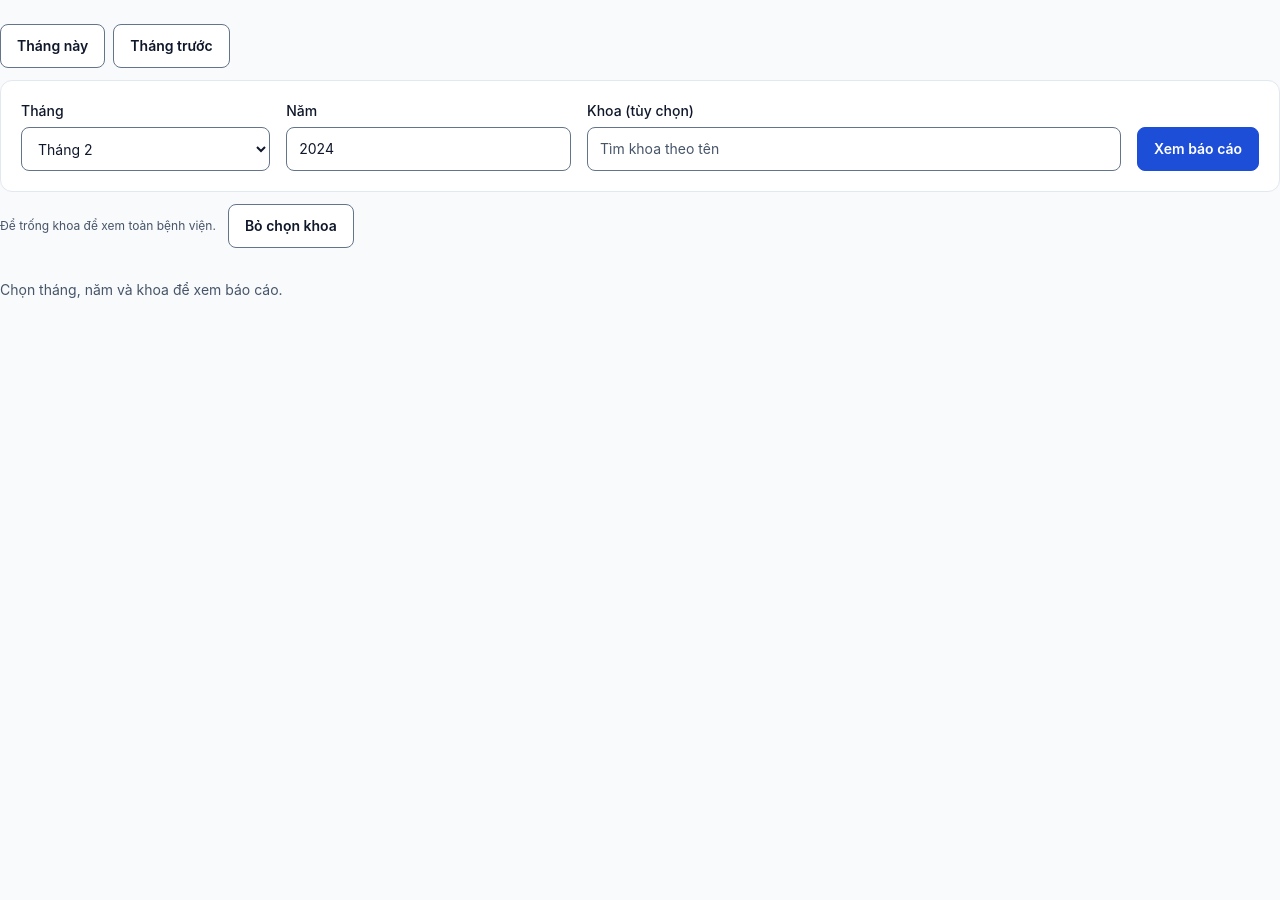
Test: MonthlyReportView › clears old results after failure and retries the submitted query, not the edited draft
Submit the form labelled "Tháng", box top-left (0, 80), bottom-right (1279, 192)
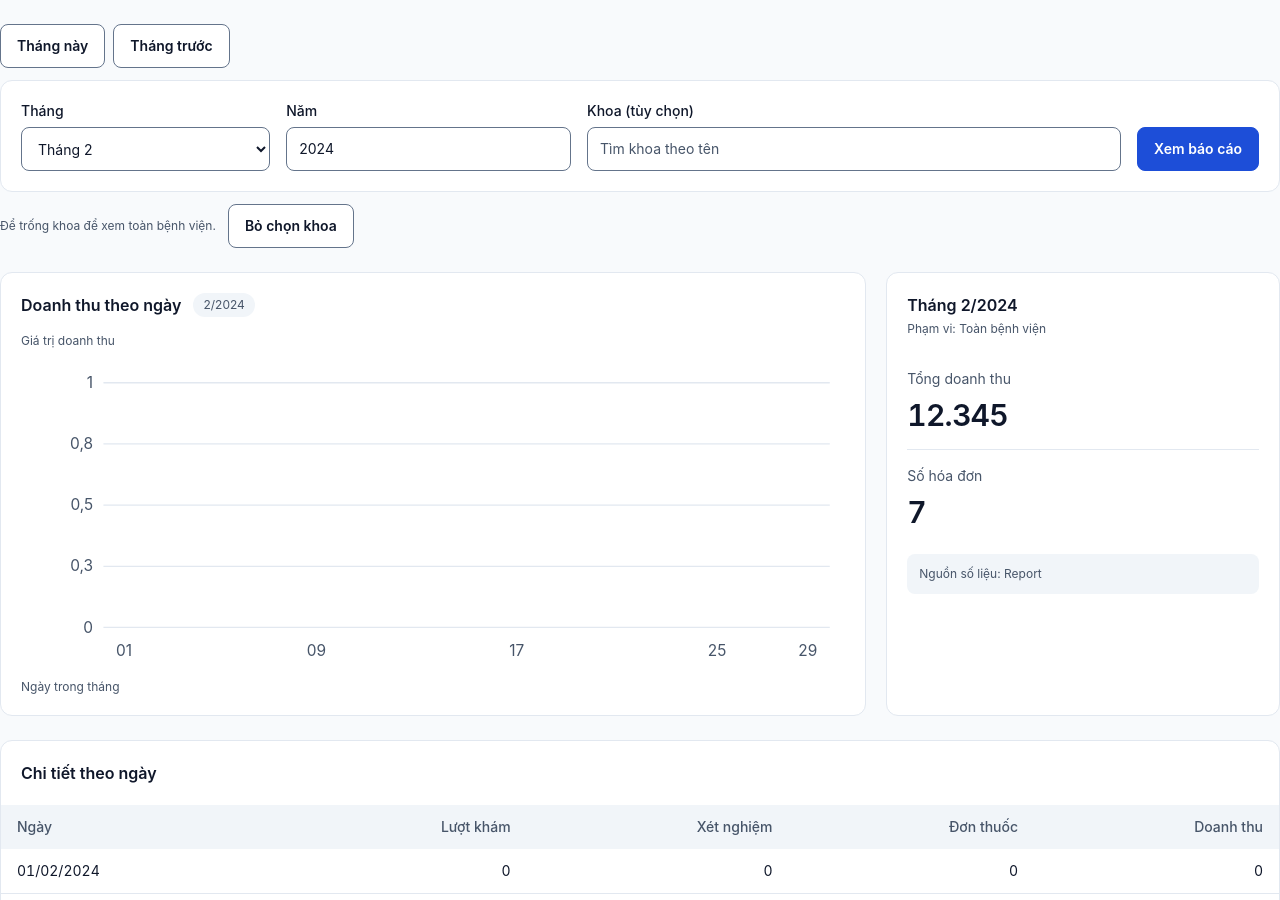
Check: the text "12.345" is shown, box top-left (907, 397), bottom-right (1008, 433)
Select "Tháng 3" in the dropdown labelled "Tháng" at (146, 149), box top-left (21, 127), bottom-right (270, 171)
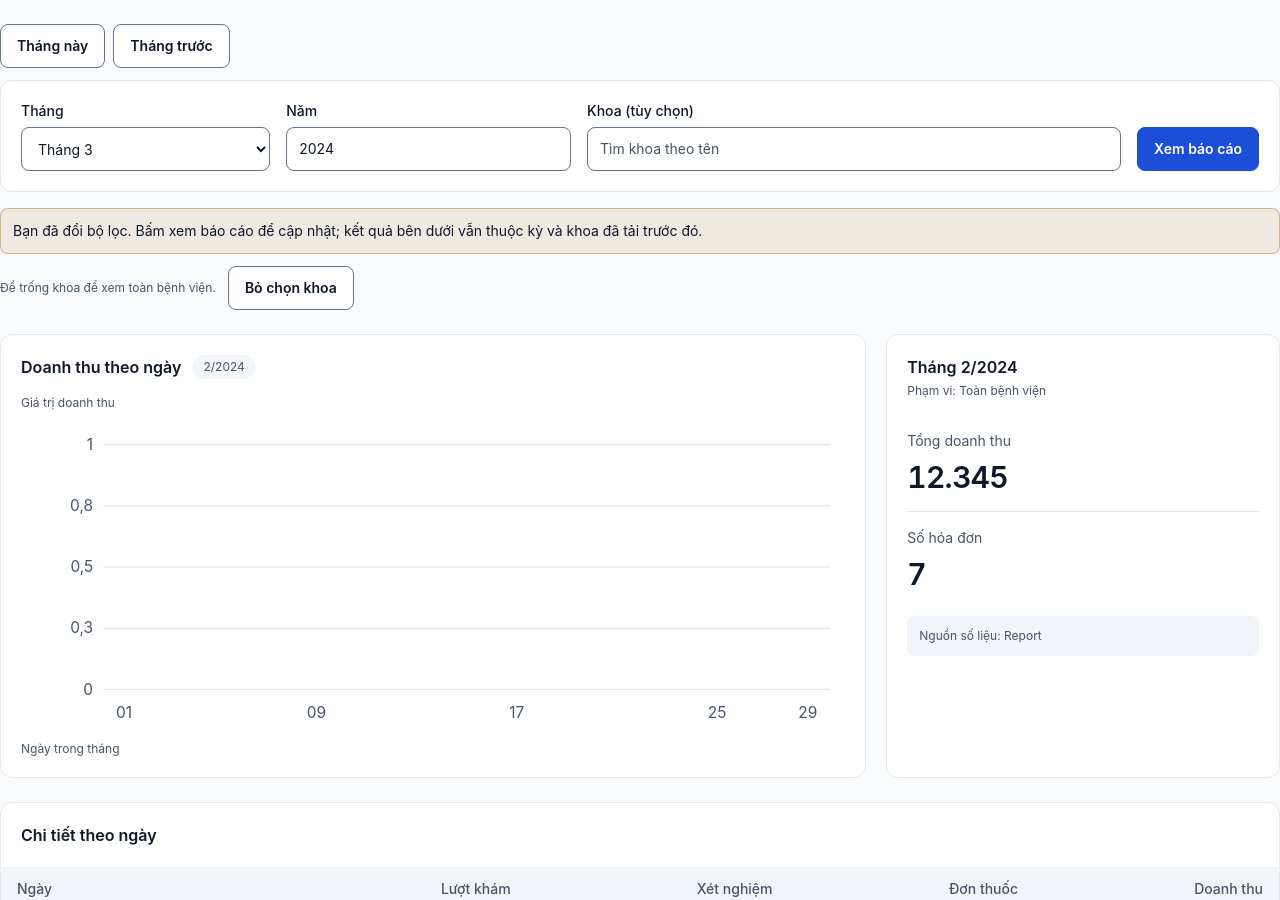
Submit the form labelled "Tháng", box top-left (0, 80), bottom-right (1279, 192)
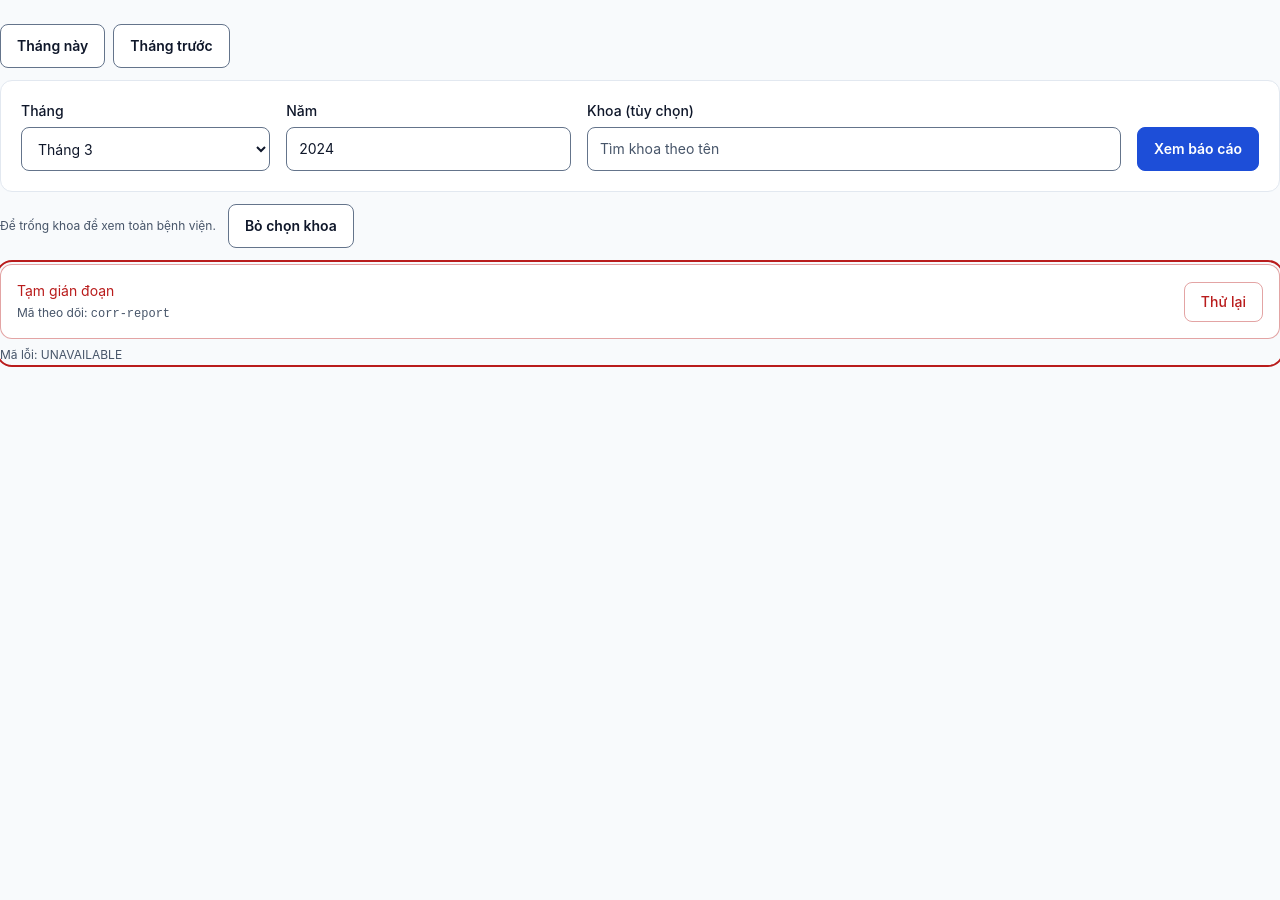
Check: the message shows "corr-report", box top-left (91, 307), bottom-right (170, 321)
Select "Tháng 4" in the dropdown labelled "Tháng" at (146, 149), box top-left (21, 127), bottom-right (270, 171)
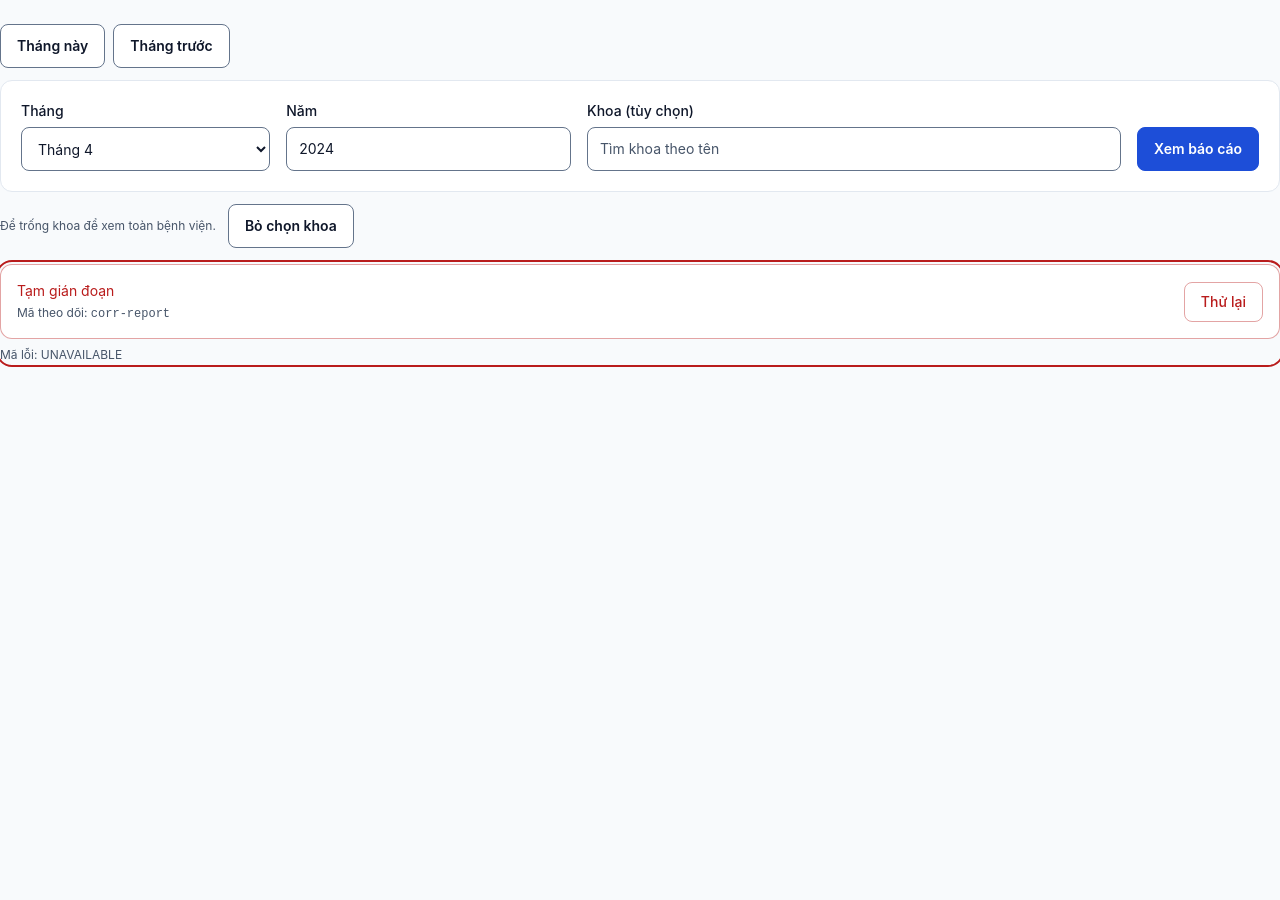
Click the button "Thử lại" at (1223, 302), box top-left (1184, 282), bottom-right (1263, 322)
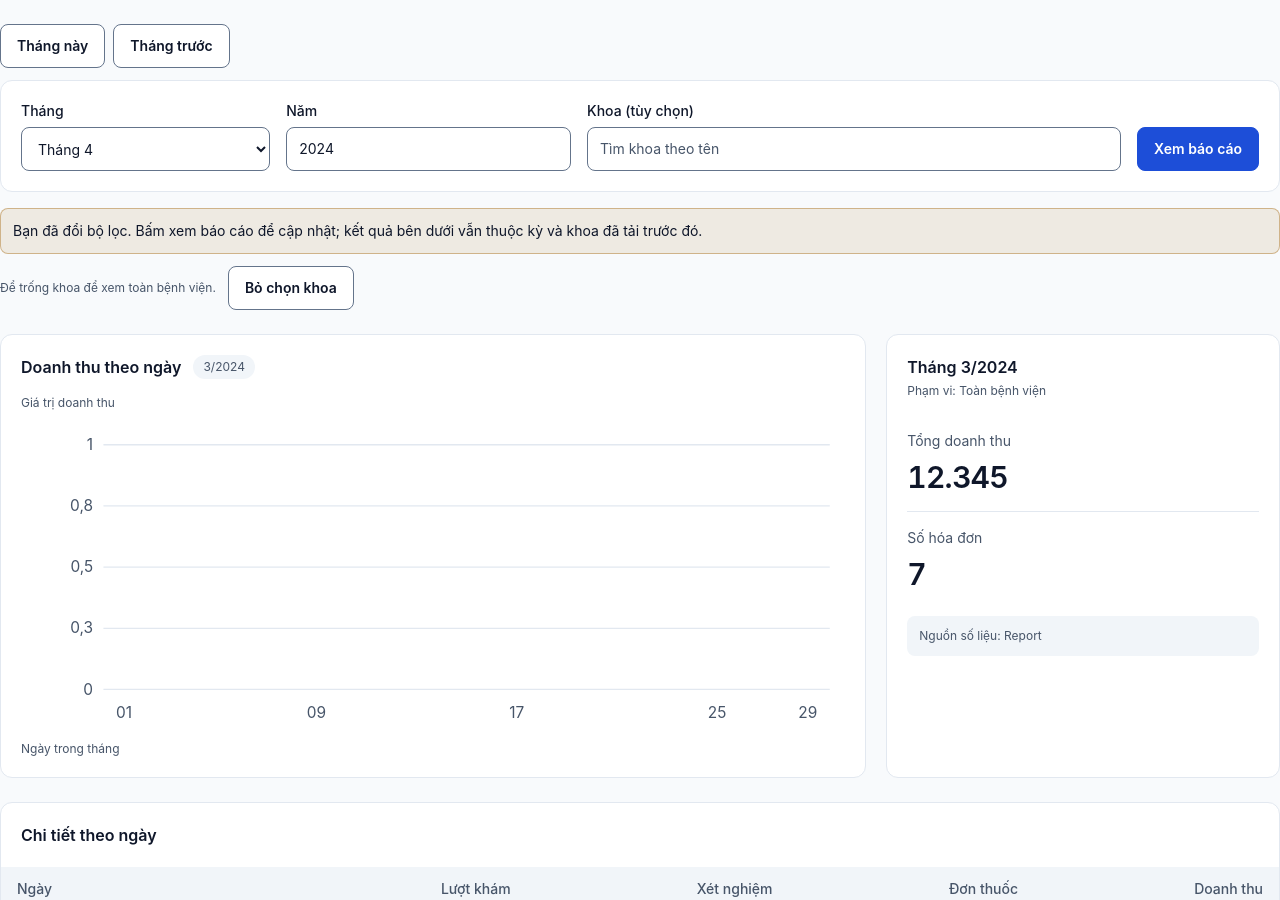
Check: the heading "Tháng 3/2024" is shown, box top-left (907, 357), bottom-right (1018, 377)
